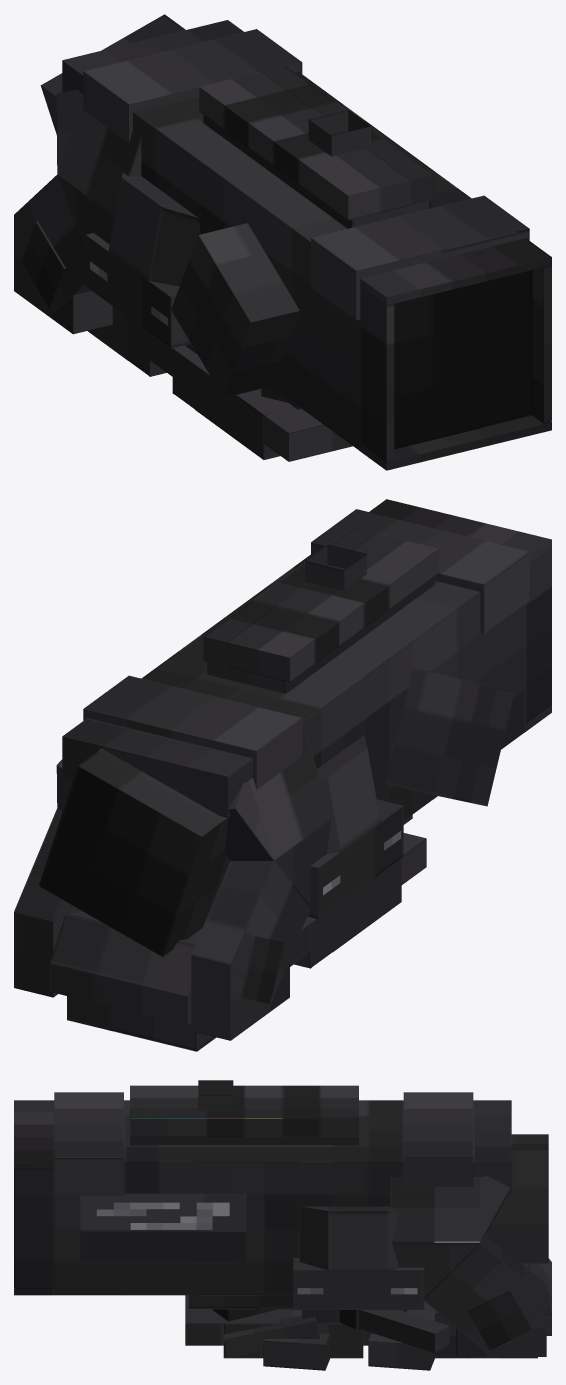
The model's file is spectre.obj.
The picture shows the model from 3 angles, top to bottom: view 1: azimuth 30°, elevation 25°; view 2: azimuth 150°, elevation 25°; view 3: azimuth 270°, elevation 25°; orthographic projection. The views are drawn at different scales.
Visible parts, largest first — view 1: specter_52, scopepip_1, _cb_scope_1; view 2: specter_52, _cb_scope_1; view 3: specter_52, _cb_scope_1.
Part boxes in pixels (x1,y1,x2,y2): specter_52: (14, 14, 551, 470); scopepip_1: (394, 270, 532, 449); _cb_scope_1: (308, 110, 370, 156); specter_52: (14, 499, 551, 1051); _cb_scope_1: (305, 544, 366, 590); specter_52: (14, 1085, 551, 1370); _cb_scope_1: (198, 1080, 233, 1118).
Bounding box in the file's own units: 0.4355 × 0.4922 × 0.9625.
